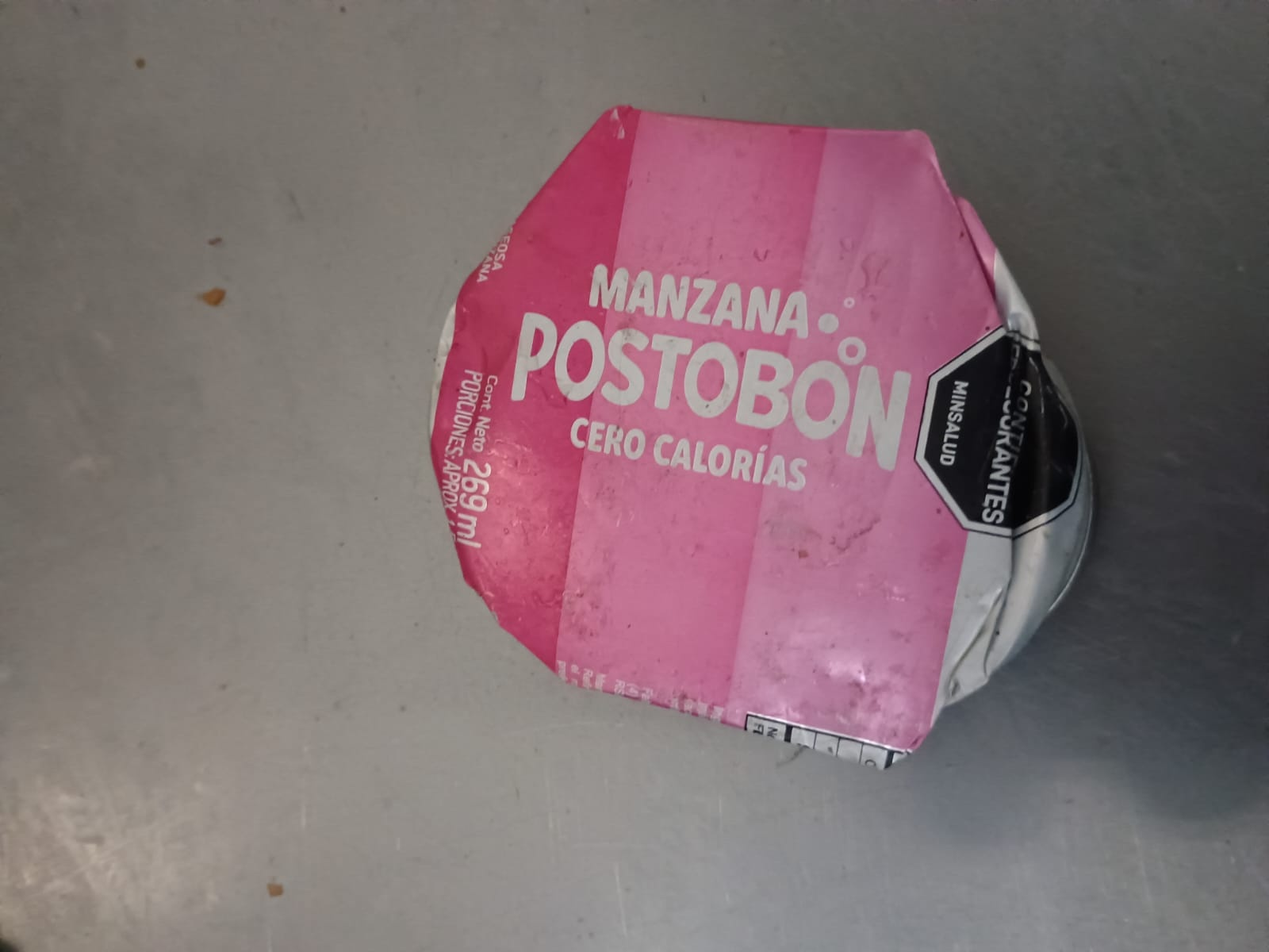Metal: (433, 104, 1096, 771)
